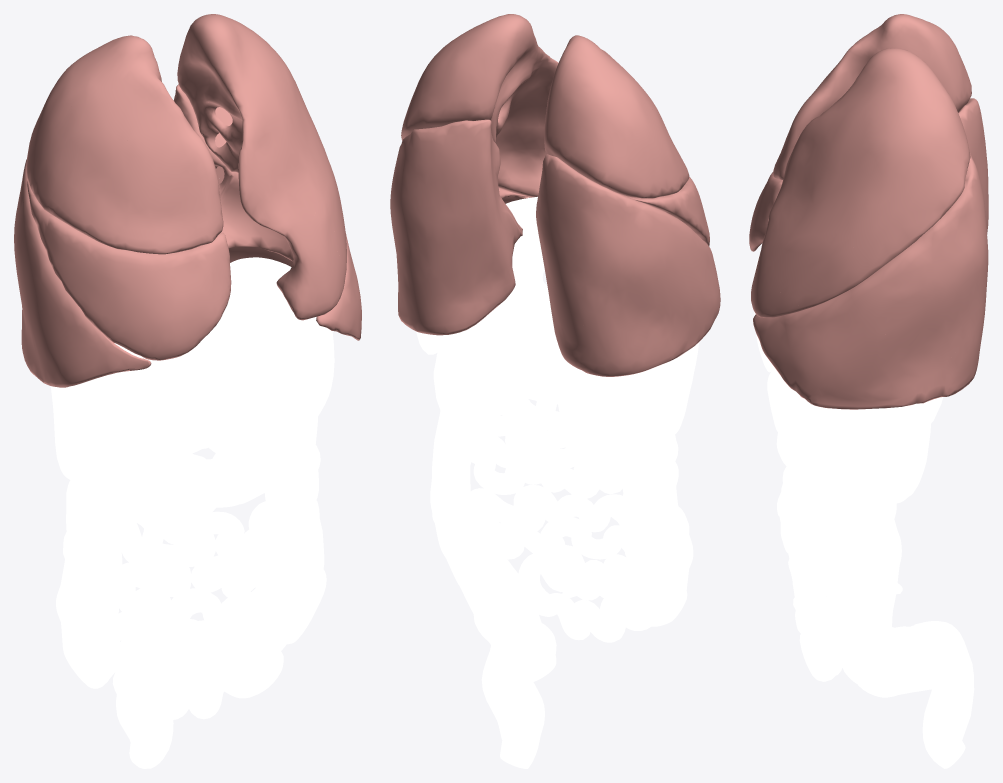
Rendered from viscera.glb.
3 renders of one model, left to right at view 1: azimuth 30°, elevation 25°; view 2: azimuth 150°, elevation 25°; view 3: azimuth 270°, elevation 25°, orthographic. The views are drawn at different scales.
Parts seen in each view (by area): view 1: organ_small-intestine__01, organ_lung__04, organ_liver__00, organ_lung__03, organ_lung__02, organ_large-intestine__00, organ_lung__01, organ_large-intestine__03, organ_stomach__00, organ_lung__00, organ_large-intestine__02, organ_large-intestine__01 (+1 smaller); view 2: organ_lung__01, organ_small-intestine__01, organ_lung__00, organ_lung__03, organ_lung__04, organ_large-intestine__00, organ_large-intestine__01, organ_large-intestine__02, organ_liver__00, organ_kidney__00, organ_kidney__01, organ_stomach__00 (+6 smaller); view 3: organ_lung__03, organ_lung__00, organ_large-intestine__01, organ_small-intestine__01, organ_lung__04, organ_large-intestine__02, organ_spleen__00, organ_stomach__00, organ_large-intestine__03, organ_kidney__00, organ_lung__01, organ_lung__02.
Boxes of the visible parts, bbox=[...] form: organ_small-intestine__01: bbox=[112, 439, 326, 720]; organ_lung__04: bbox=[26, 35, 223, 254]; organ_liver__00: bbox=[50, 257, 324, 483]; organ_lung__03: bbox=[177, 14, 346, 320]; organ_lung__02: bbox=[27, 180, 231, 360]; organ_large-intestine__00: bbox=[56, 479, 123, 688]; organ_lung__01: bbox=[14, 159, 151, 387]; organ_large-intestine__03: bbox=[108, 391, 312, 507]; organ_stomach__00: bbox=[206, 327, 334, 460]; organ_lung__00: bbox=[173, 84, 361, 340]; organ_large-intestine__02: bbox=[116, 631, 173, 768]; organ_large-intestine__01: bbox=[159, 417, 324, 669]; organ_lung__01: bbox=[536, 154, 720, 376]; organ_small-intestine__01: bbox=[471, 380, 651, 642]; organ_lung__00: bbox=[390, 119, 532, 335]; organ_lung__03: bbox=[401, 14, 558, 197]; organ_lung__04: bbox=[544, 35, 689, 198]; organ_large-intestine__00: bbox=[622, 427, 693, 626]; organ_large-intestine__01: bbox=[430, 381, 556, 681]; organ_large-intestine__02: bbox=[481, 615, 556, 768]; organ_liver__00: bbox=[506, 196, 698, 438]; organ_kidney__00: bbox=[433, 332, 503, 439]; organ_kidney__01: bbox=[581, 379, 638, 487]; organ_stomach__00: bbox=[489, 252, 555, 334]; organ_lung__03: bbox=[751, 48, 970, 317]; organ_lung__00: bbox=[753, 153, 988, 409]; organ_large-intestine__01: bbox=[836, 443, 934, 697]; organ_small-intestine__01: bbox=[777, 466, 851, 681]; organ_lung__04: bbox=[773, 14, 971, 179]; organ_large-intestine__02: bbox=[914, 621, 974, 768]; organ_spleen__00: bbox=[826, 397, 943, 448]; organ_stomach__00: bbox=[767, 367, 841, 439]; organ_large-intestine__03: bbox=[776, 432, 850, 482]; organ_kidney__00: bbox=[883, 424, 930, 503]; organ_lung__01: bbox=[958, 98, 988, 234]; organ_lung__02: bbox=[749, 172, 782, 251].
Bounding box in the file's own units: 0.2603 × 0.6273 × 0.1854.
